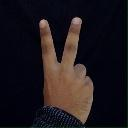hand: (38, 16, 94, 125)
